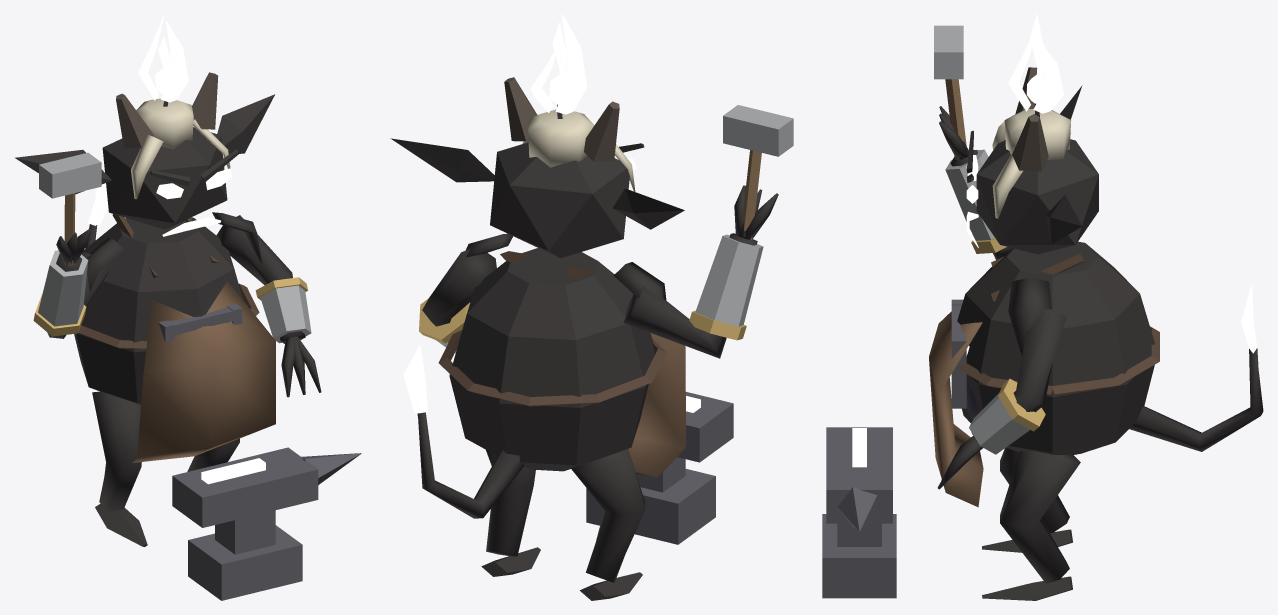
File: fiend-scar-smith.glb
3 views of the same model, side by side, from view 1: azimuth 30°, elevation 25°; view 2: azimuth 150°, elevation 25°; view 3: azimuth 270°, elevation 25° (orthographic). The views are drawn at different scales.
Visible parts, largest first — view 1: fiend_scar_smith; view 2: fiend_scar_smith; view 3: fiend_scar_smith.
Part boxes in pixels (<box>): fiend_scar_smith: <box>15,14,361,600</box>; fiend_scar_smith: <box>390,14,793,600</box>; fiend_scar_smith: <box>822,14,1263,600</box>.
Size of the model in its own units: 0.5041 by 0.8361 by 0.5938.
